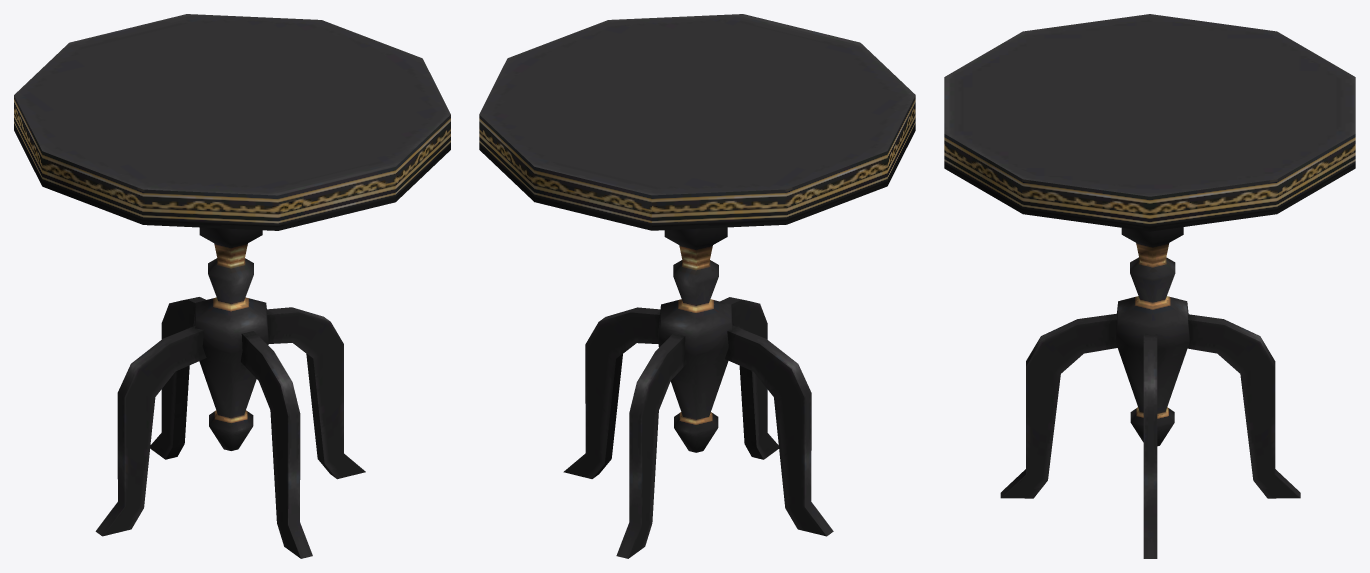
Rendered from furni_0200308.FBX.
3 views of the same model, side by side, from view 1: azimuth 30°, elevation 25°; view 2: azimuth 150°, elevation 25°; view 3: azimuth 270°, elevation 25° (orthographic).
Visible parts, largest first — view 1: furni_0200308; view 2: furni_0200308; view 3: furni_0200308.
Boxes of the visible parts, x1,y1,x2,y2 form: furni_0200308: [14, 14, 450, 558]; furni_0200308: [479, 14, 915, 558]; furni_0200308: [944, 14, 1355, 558].
Size of the model in its own units: 80 by 79.74 by 76.08.
Materials: 1 (1 with a texture image).
